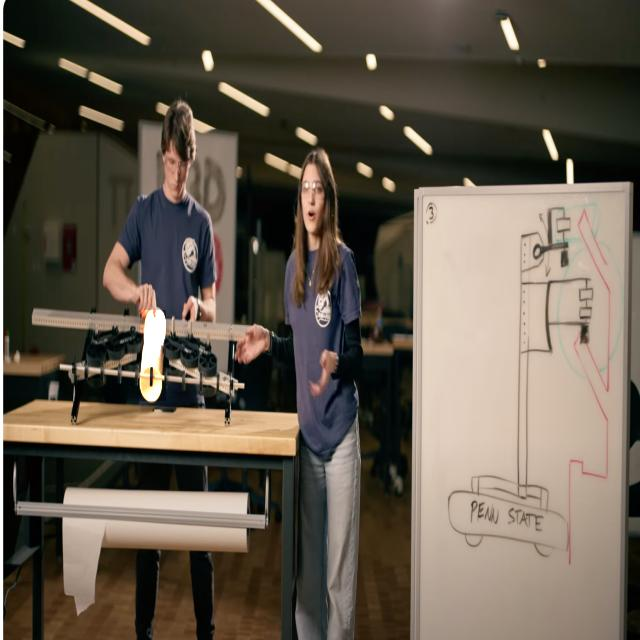Coral: (140, 310, 166, 401)
